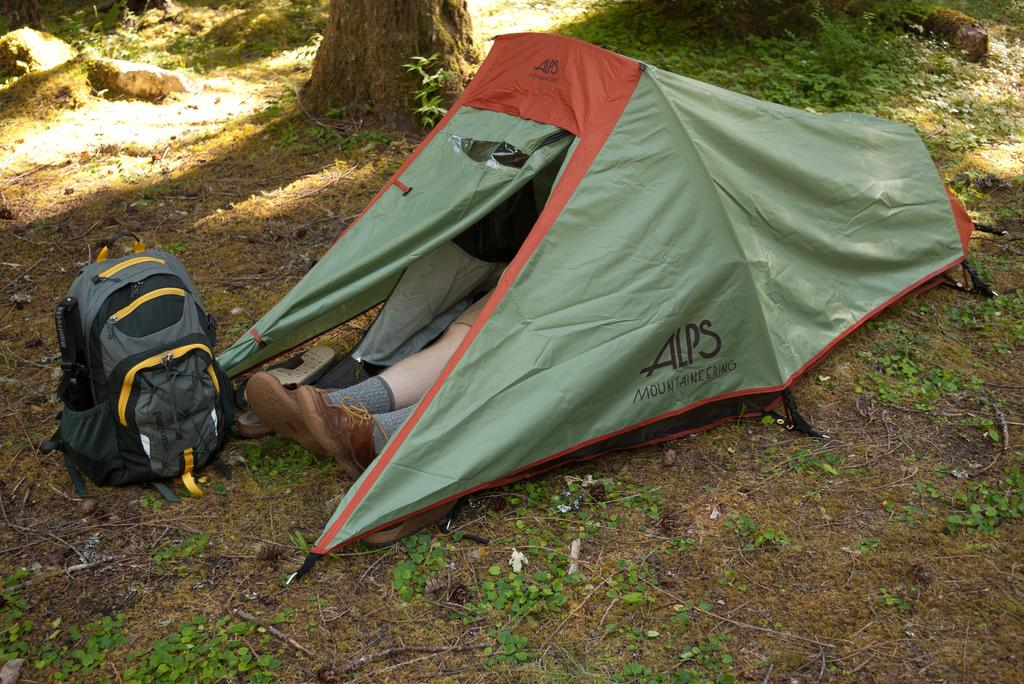Luggage-and-bags: (44, 233, 248, 506)
